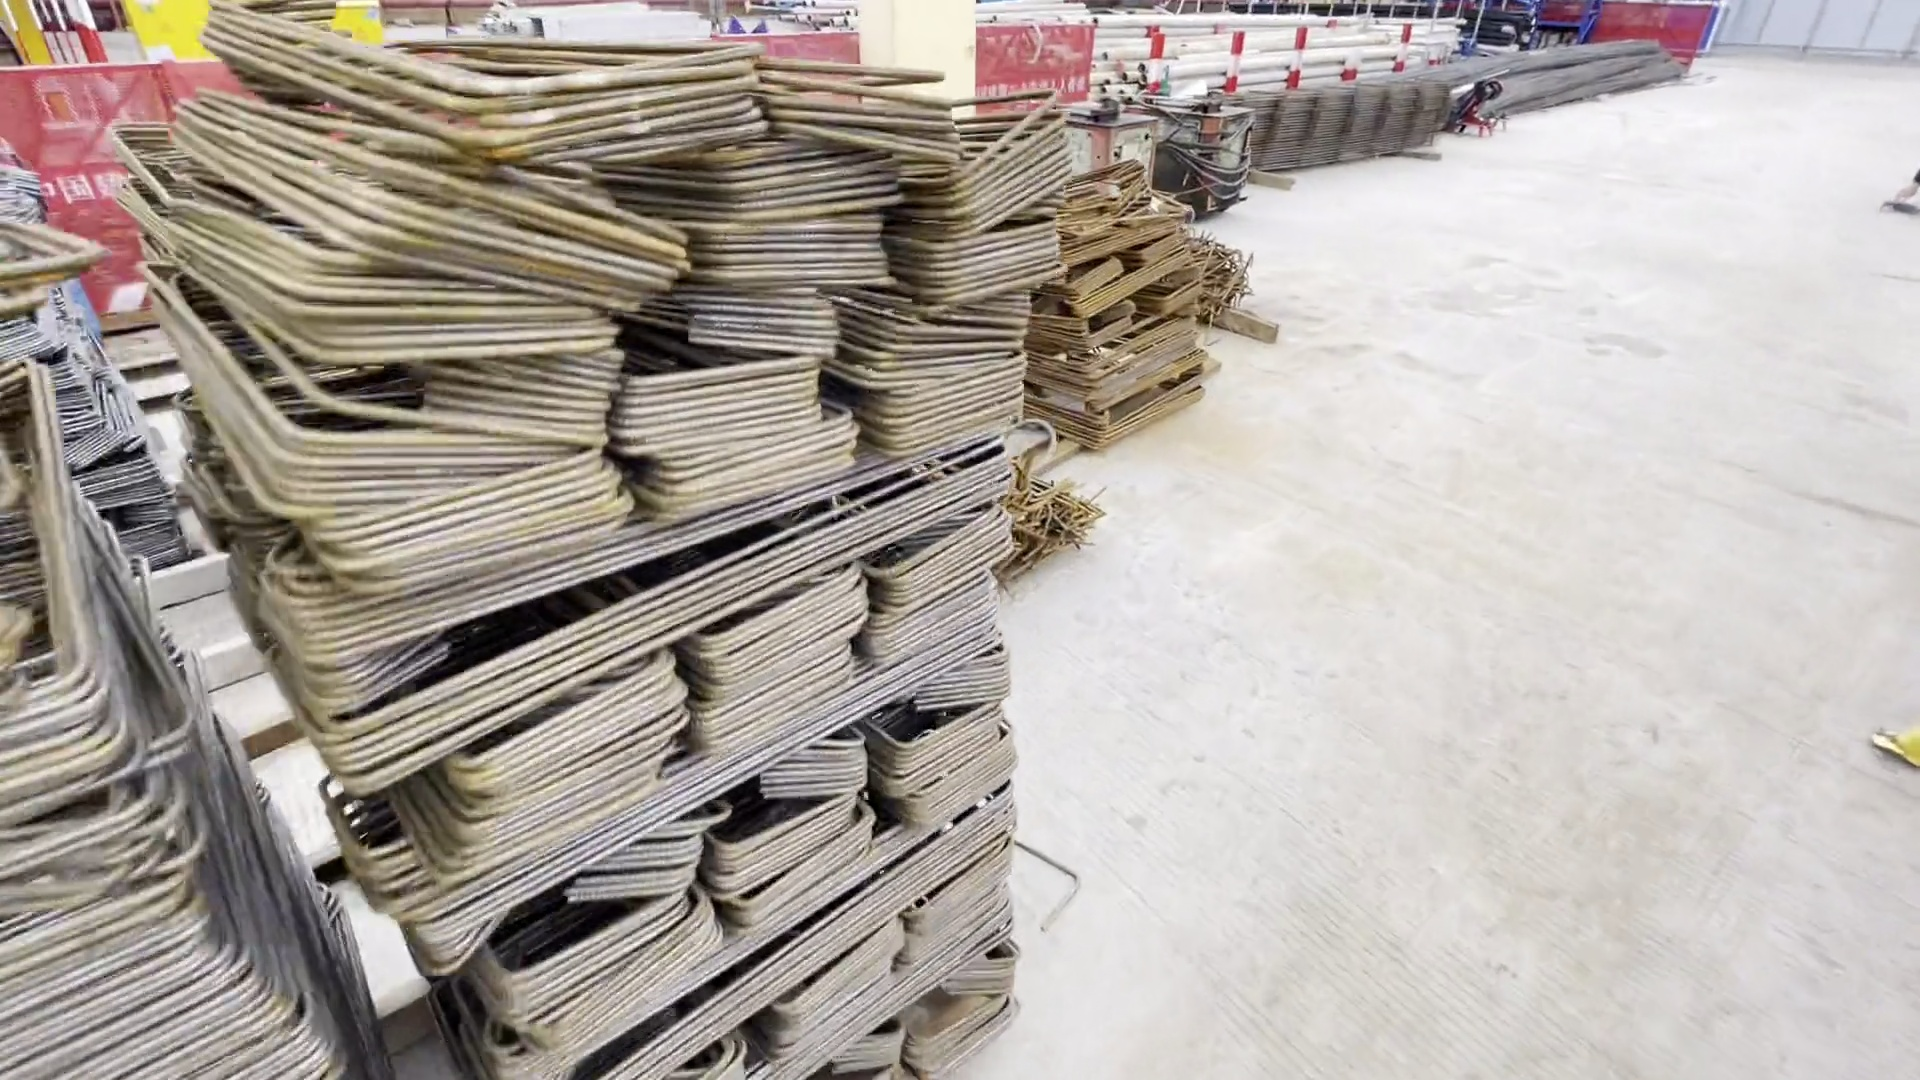cutter: (1441, 74, 1519, 149)
ebox: (865, 3, 981, 119)
rebar: (1385, 36, 1684, 127)
